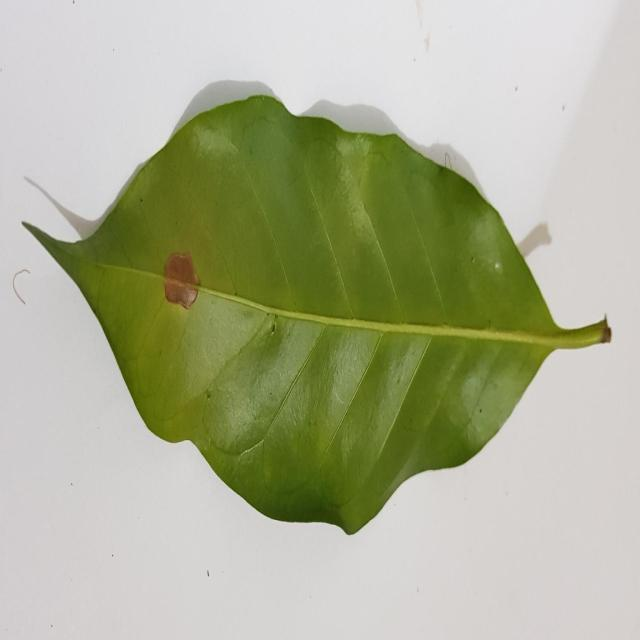Plaga-Minador: (24, 95, 613, 538)
